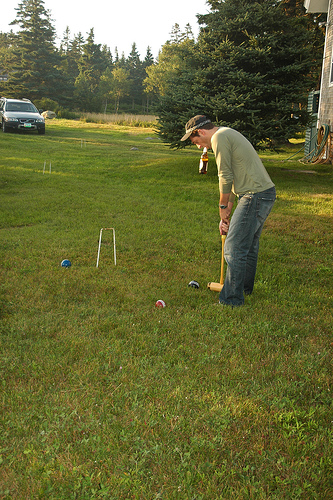without_mask: (189, 123, 218, 150)
